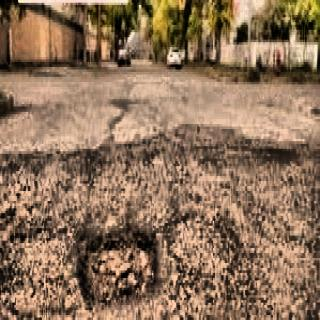pothole: (71, 208, 161, 314)
